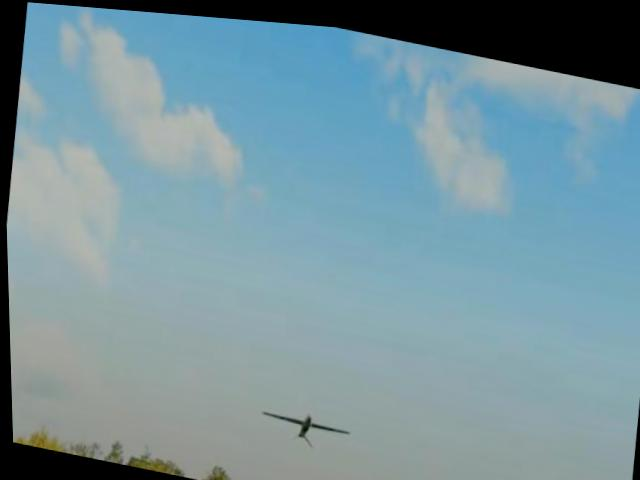iha: (244, 396, 351, 451)
